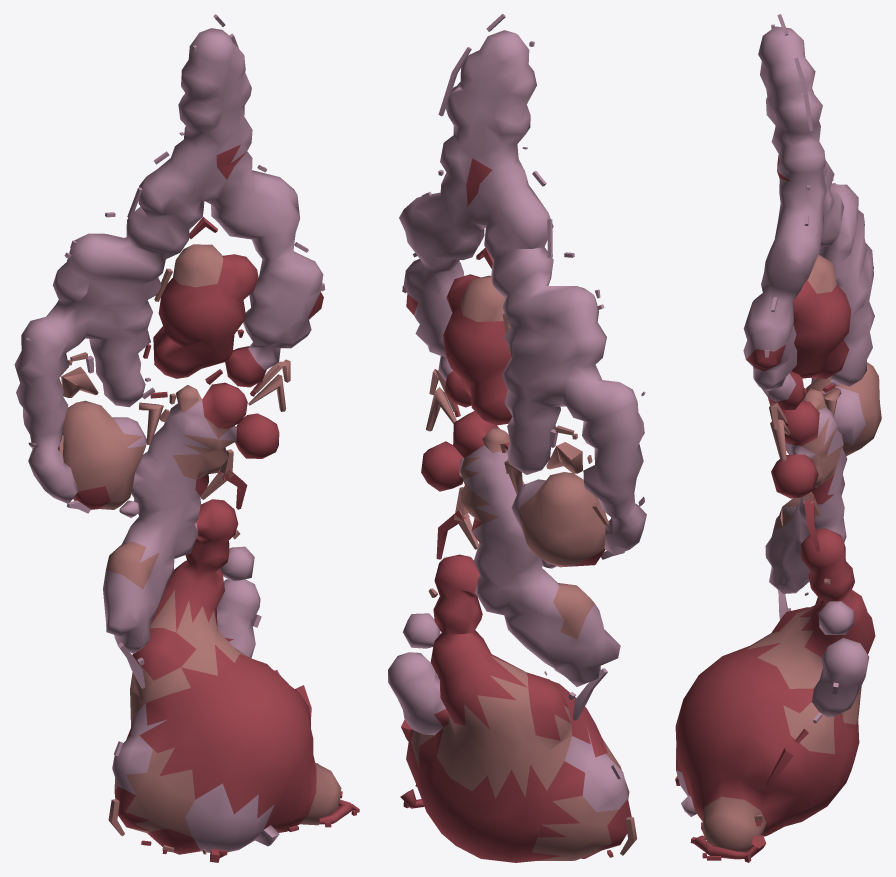
File: jellystem.glb
The picture shows the model from 3 angles, left to right: view 1: azimuth 30°, elevation 25°; view 2: azimuth 150°, elevation 25°; view 3: azimuth 270°, elevation 25°; orthographic projection. The views are drawn at different scales.
Parts seen in each view (by area): view 1: body; view 2: body; view 3: body.
Part boxes in pixels (box(x1,y1,x2,y2)): body: box(14, 14, 359, 862); body: box(388, 14, 646, 862); body: box(675, 14, 881, 862).
Bounding box in the file's own units: 2.41 × 6.72 × 1.56.
